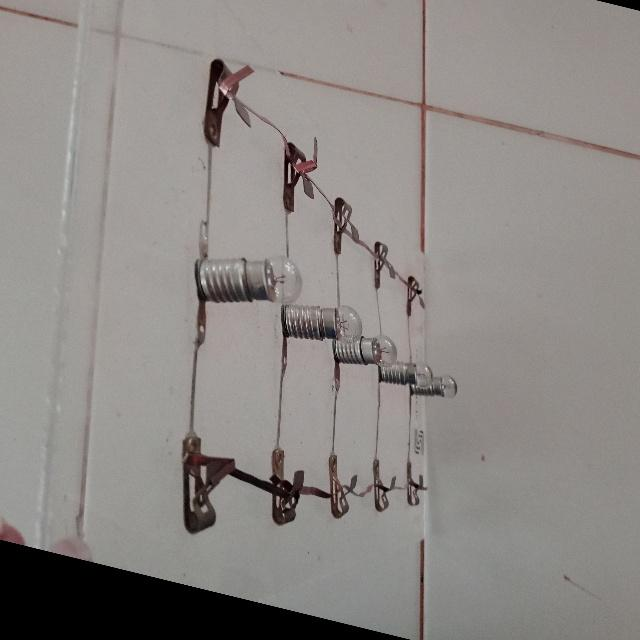Set of Resistors and Bulbs: (172, 35, 493, 589)
